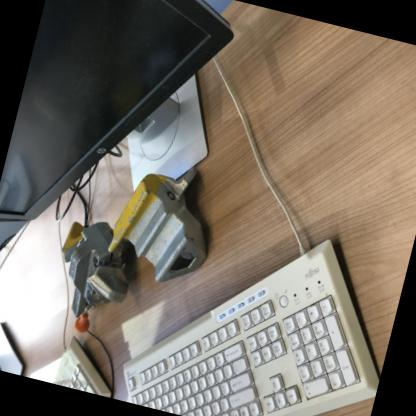Twistlock: (101, 146, 232, 297), (39, 212, 148, 345)
